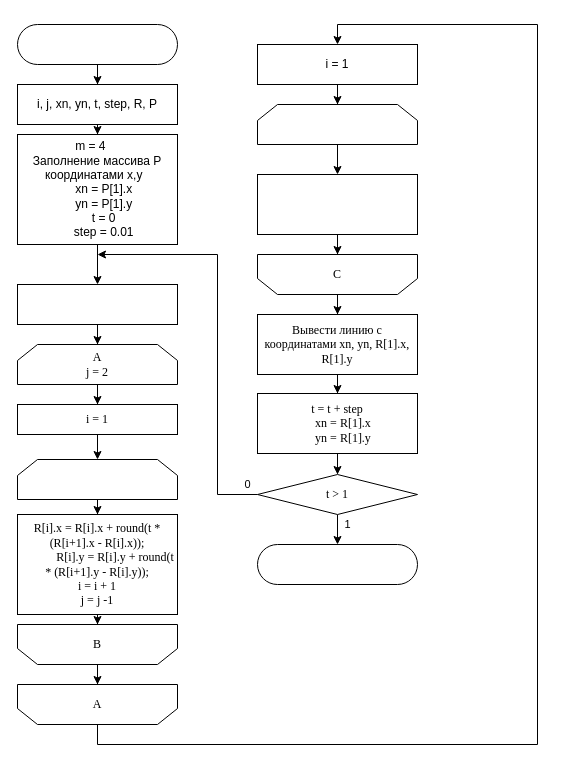
Some shapes in this 563 by 770 pixel diagram are drawn without their labels. The centre of each missing label's shape, as x and y in pixels:
B i = j -1: the point at 97,479
C i = m - 1: the point at 337,124
R := P j = m: the point at 97,304
Вывести линию с координатами R[i].x, R[i].y, R[i+1].x, R[i+1].y: the point at 337,204
КОНЕЦ: the point at 337,564
НАЧАЛО: the point at 97,44
